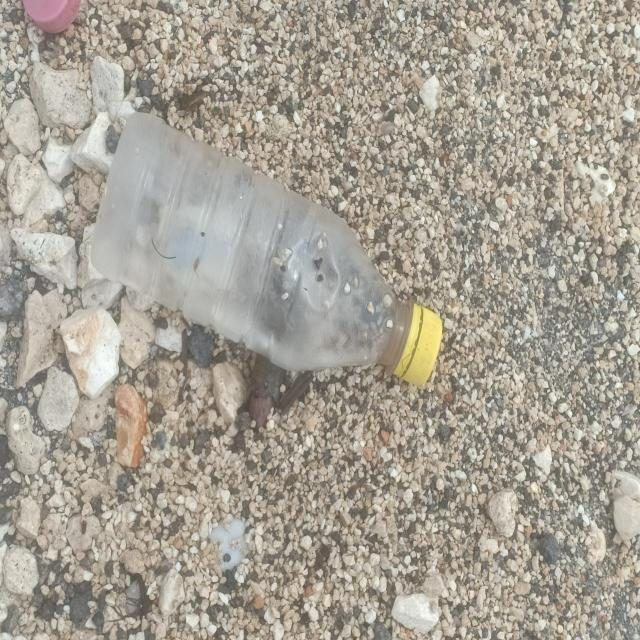plastic_waste: (90, 111, 446, 391)
